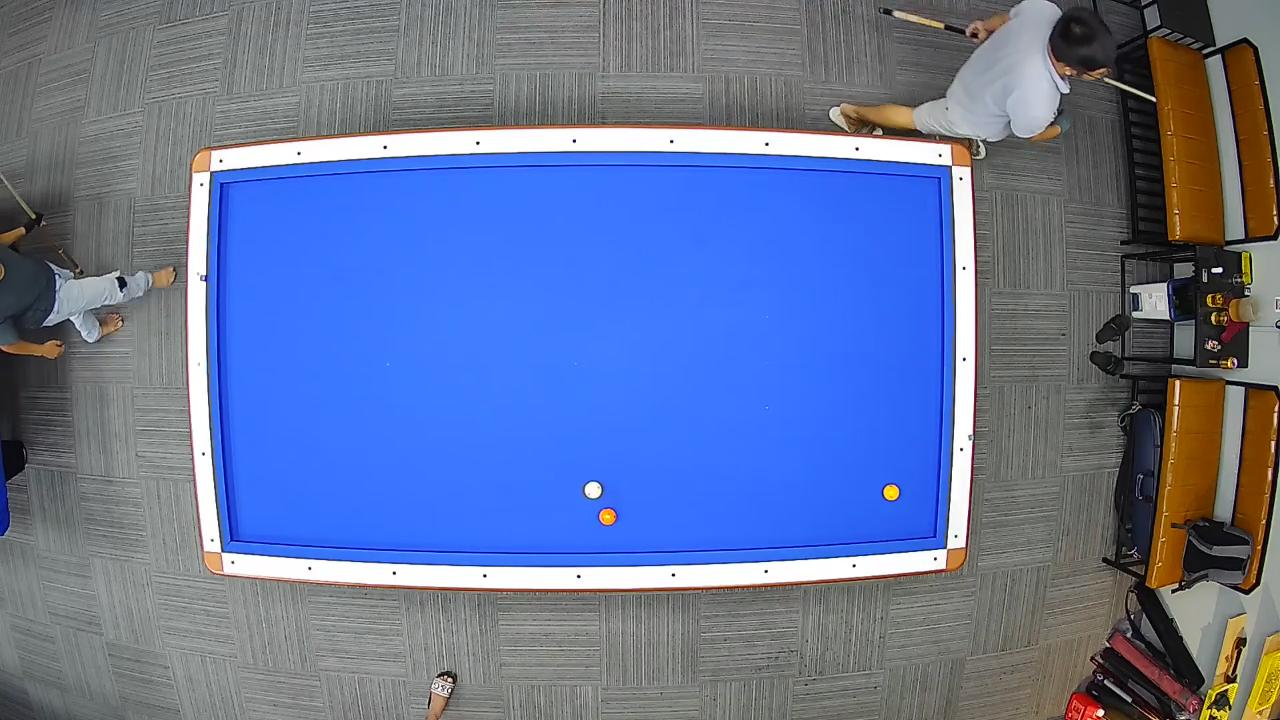Orange: (598, 507, 617, 526)
White: (582, 480, 604, 500)
Yellow: (882, 483, 901, 502)
